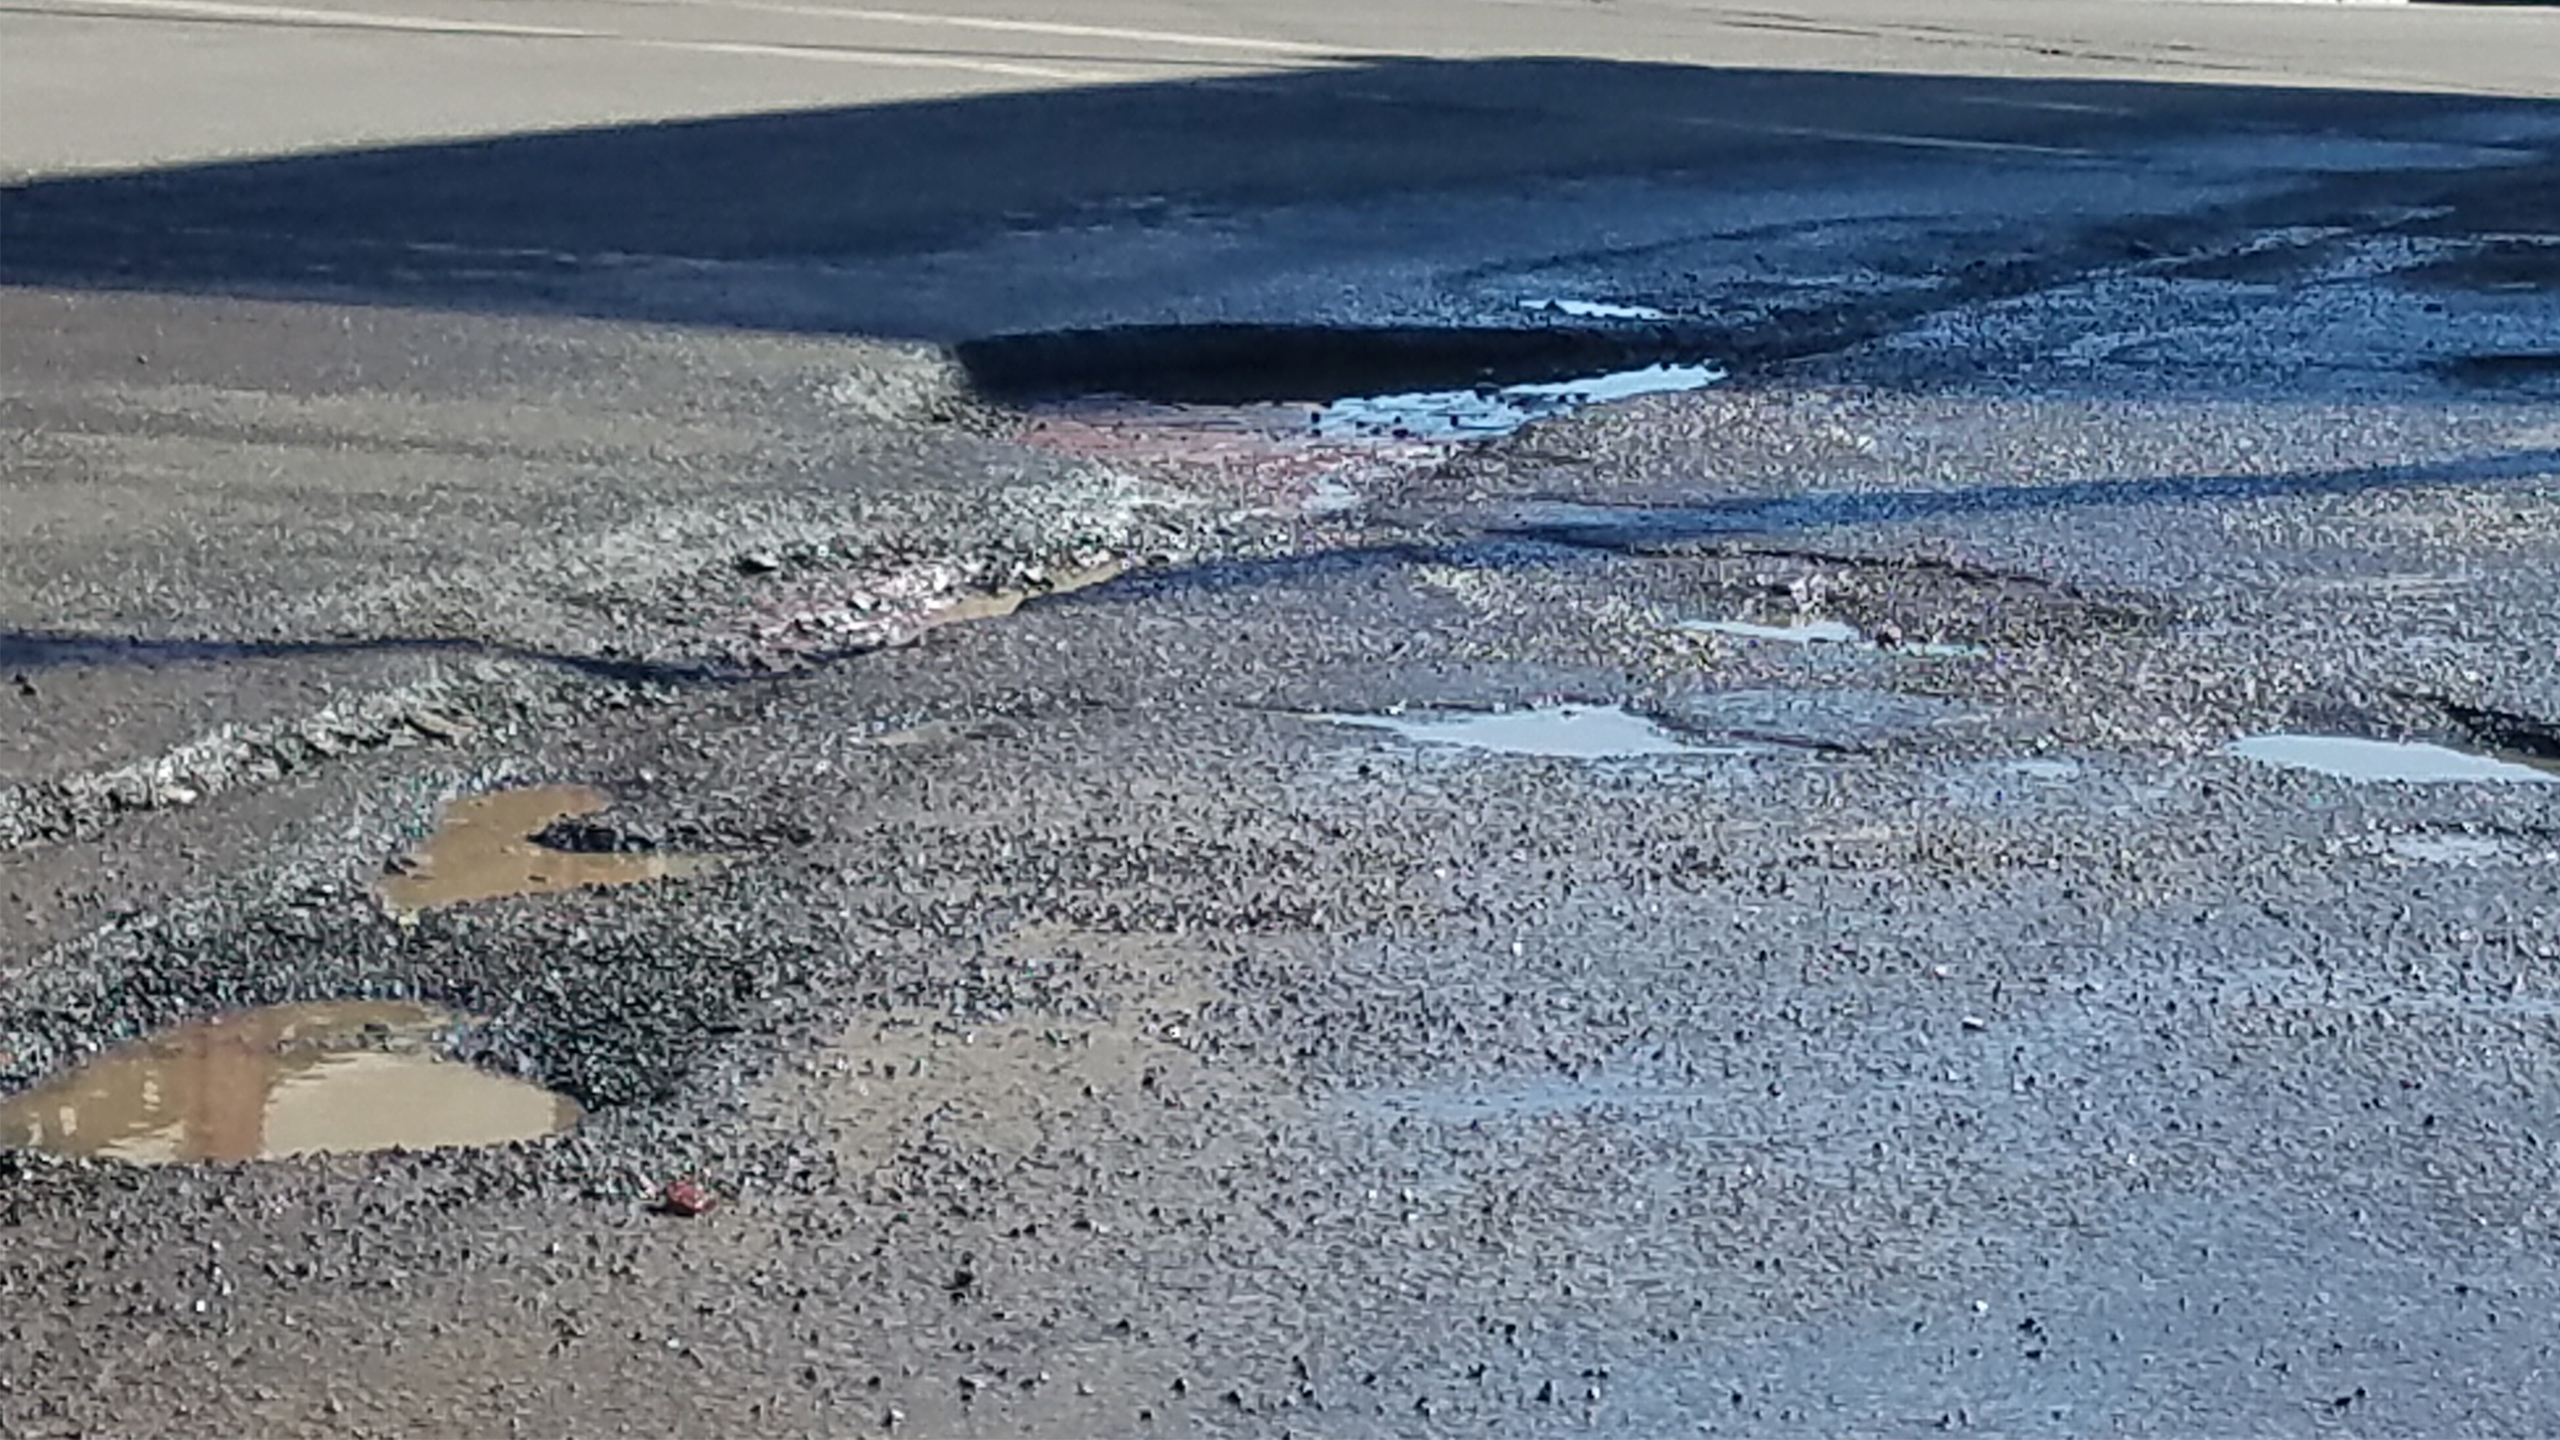pothole: (76, 934, 531, 1238), (360, 680, 723, 971), (2187, 608, 2523, 856), (1350, 645, 1749, 830)
